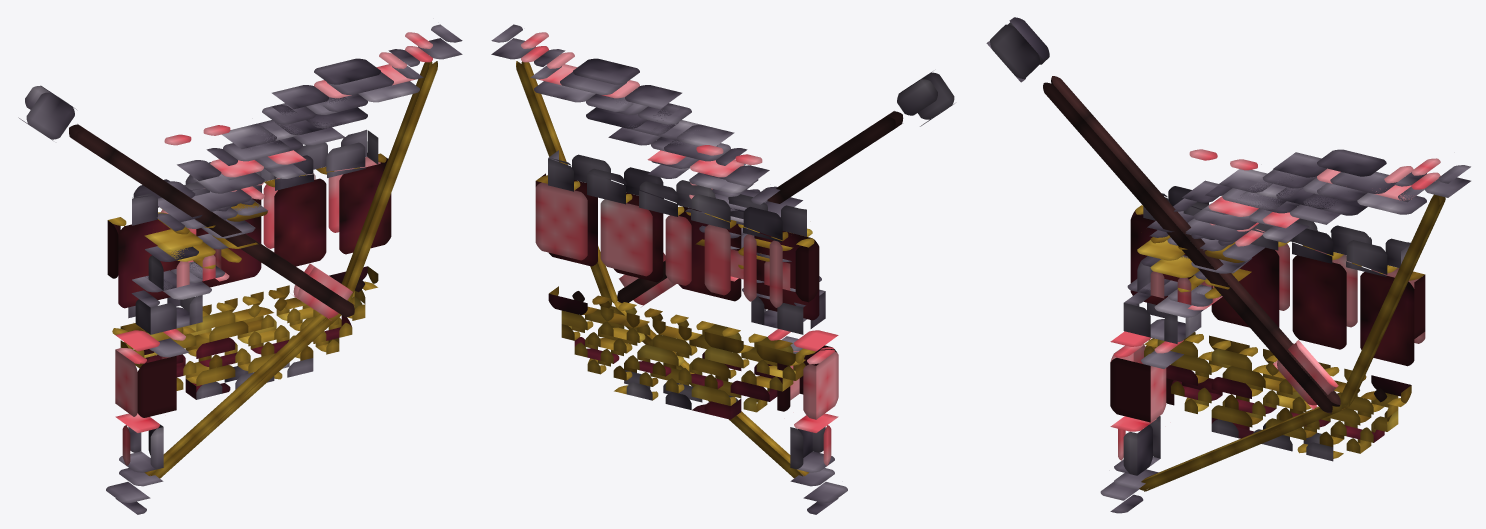
The model's file is bloodmoon_bow_pulling_1.obj.
3 views of the same model, side by side, from view 1: azimuth 30°, elevation 25°; view 2: azimuth 150°, elevation 25°; view 3: azimuth 330°, elevation 25° (orthographic). The views are drawn at different scales.
Parts seen in each view (by area): view 1: lit, fire; view 2: fire, lit; view 3: lit, fire.
Part boxes in pixels (left/top/right/bottom): lit: left=18, top=24, right=462, bottom=514; fire: left=107, top=125, right=391, bottom=399; fire: left=535, top=145, right=819, bottom=419; lit: left=491, top=24, right=954, bottom=514; lit: left=986, top=17, right=1470, bottom=513; fire: left=1130, top=149, right=1425, bottom=461.
Bounding box in the file's own units: 1.06 × 1.03 × 0.1438.
